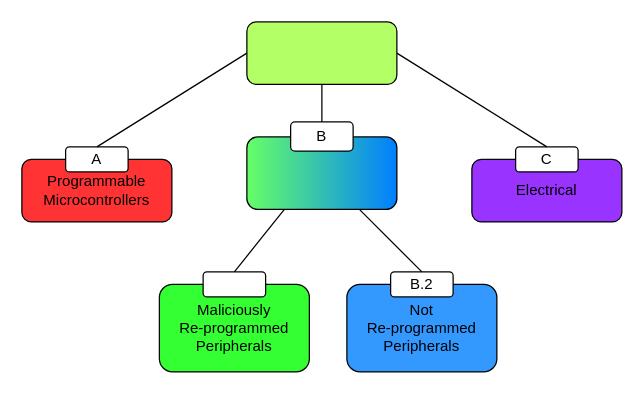
Image size: 644x394. Some labels were removed from this diagram. The centre of each missing label's shape, as x and y in pixels:
"Normal" USB Peripherals: the point at 321,172
B.1: the point at 234,284
USB Hardware: the point at 321,52
